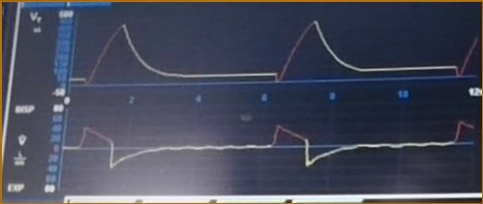Flow: (69, 120, 472, 182)
Leakage Volume: (74, 19, 480, 87)
